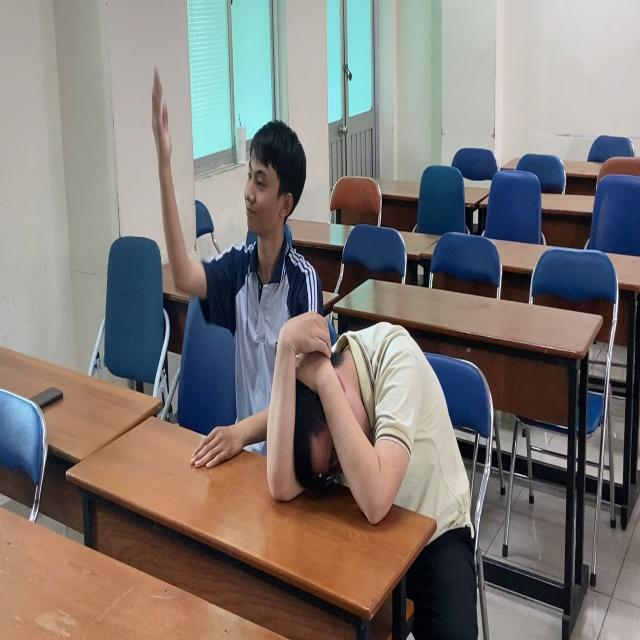raise_hand: (152, 66, 322, 472)
sleep: (264, 311, 472, 538)
